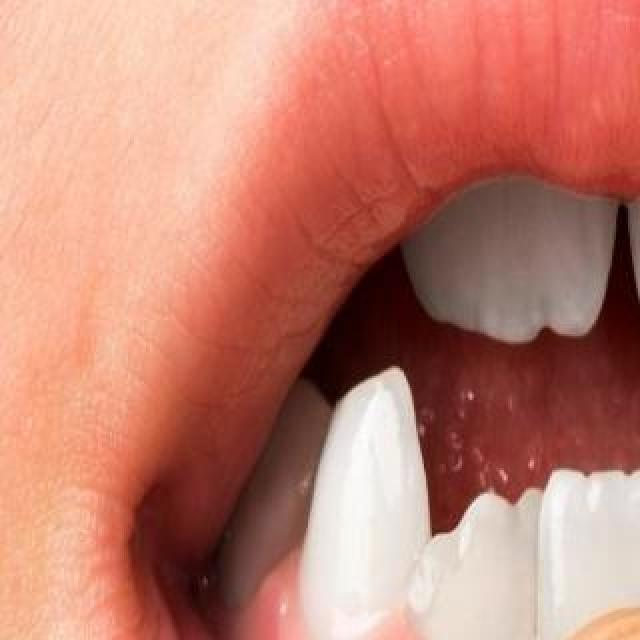maligned: (274, 360, 436, 640), (378, 430, 548, 640)
